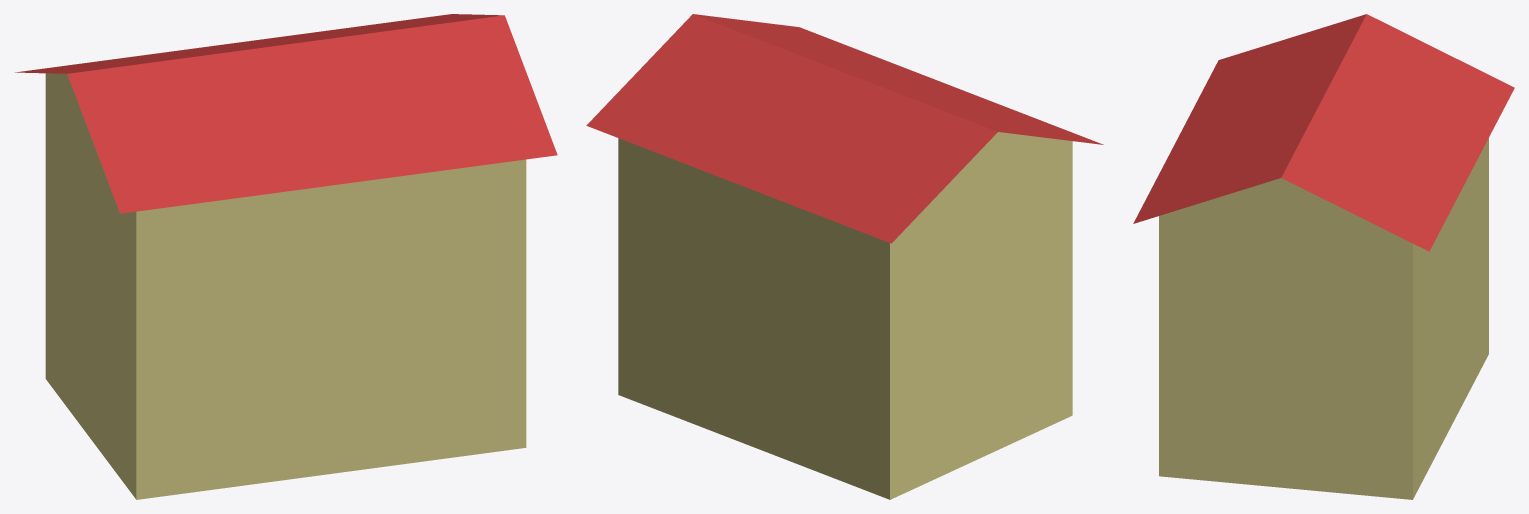
3 renders of one model, left to right at view 1: azimuth 30°, elevation 25°; view 2: azimuth 150°, elevation 25°; view 3: azimuth 270°, elevation 25°, orthographic. The views are drawn at different scales.
Visible parts, largest first — view 1: group_5, group_3, group_4; view 2: group_5, group_3; view 3: group_5, group_3.
Boxes of the visible parts, x1,y1,x2,y2 form: group_5: (45, 73, 526, 499); group_3: (15, 14, 557, 213); group_4: (69, 15, 504, 212); group_5: (618, 132, 1072, 499); group_3: (586, 14, 1103, 243); group_5: (1159, 138, 1488, 499); group_3: (1133, 14, 1514, 251).
Size of the model in its own units: 15.67 by 13.2 by 12.17.
